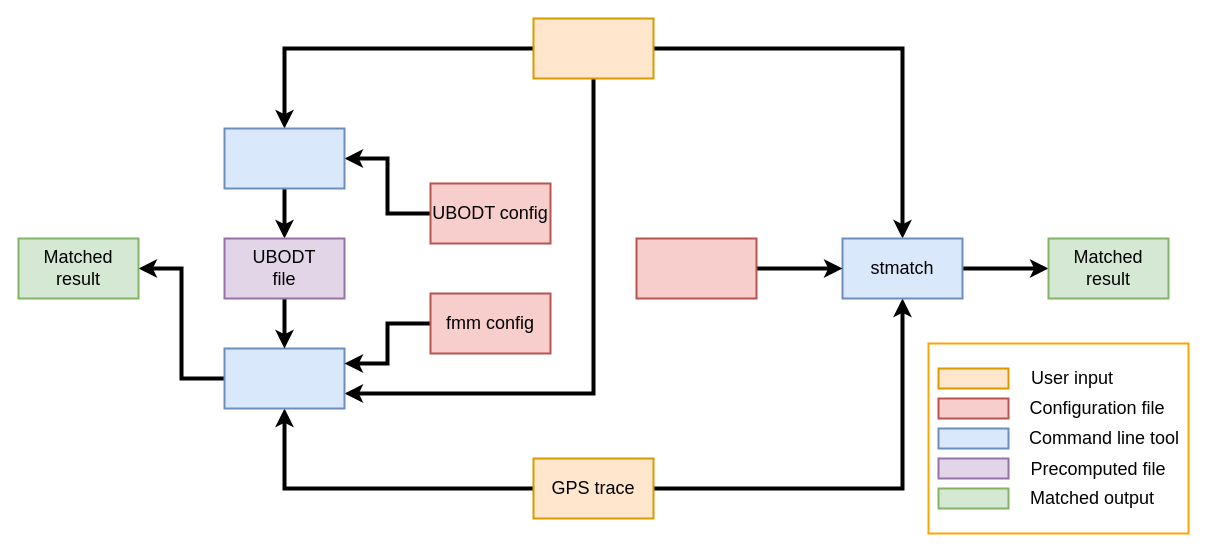
Image size: 1206x551. Some labels were removed from this diagram. The shapes that lost their labels are listed below. From the top down, each one's box as (x1, y1, x2, y2) in pixels, then its label:
(532, 17, 654, 79): Road network
(223, 127, 345, 189): ubodt_gen
(635, 237, 757, 299): stmatch config
(223, 347, 345, 409): fmm
